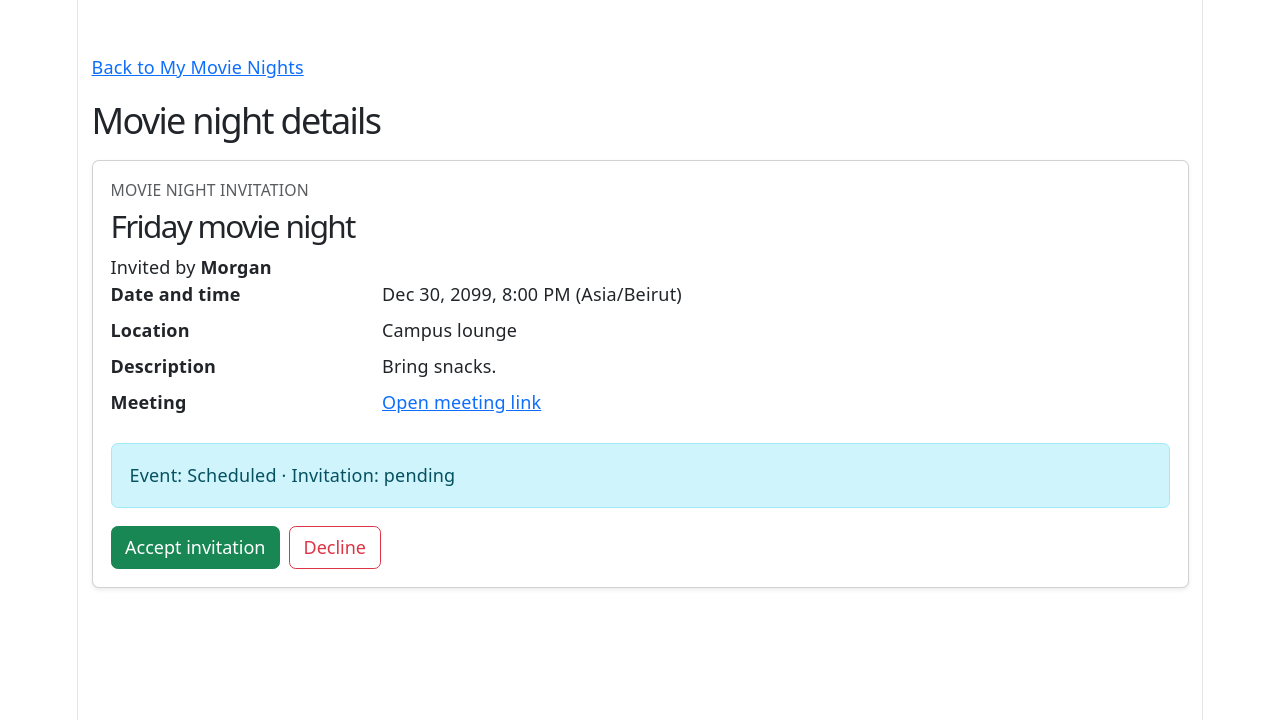
Test: loads full details after accepting an invitation
The width and height of the screenshot is (1280, 720).
Click the button "Accept invitation": [195, 547] box [110,526,280,569]
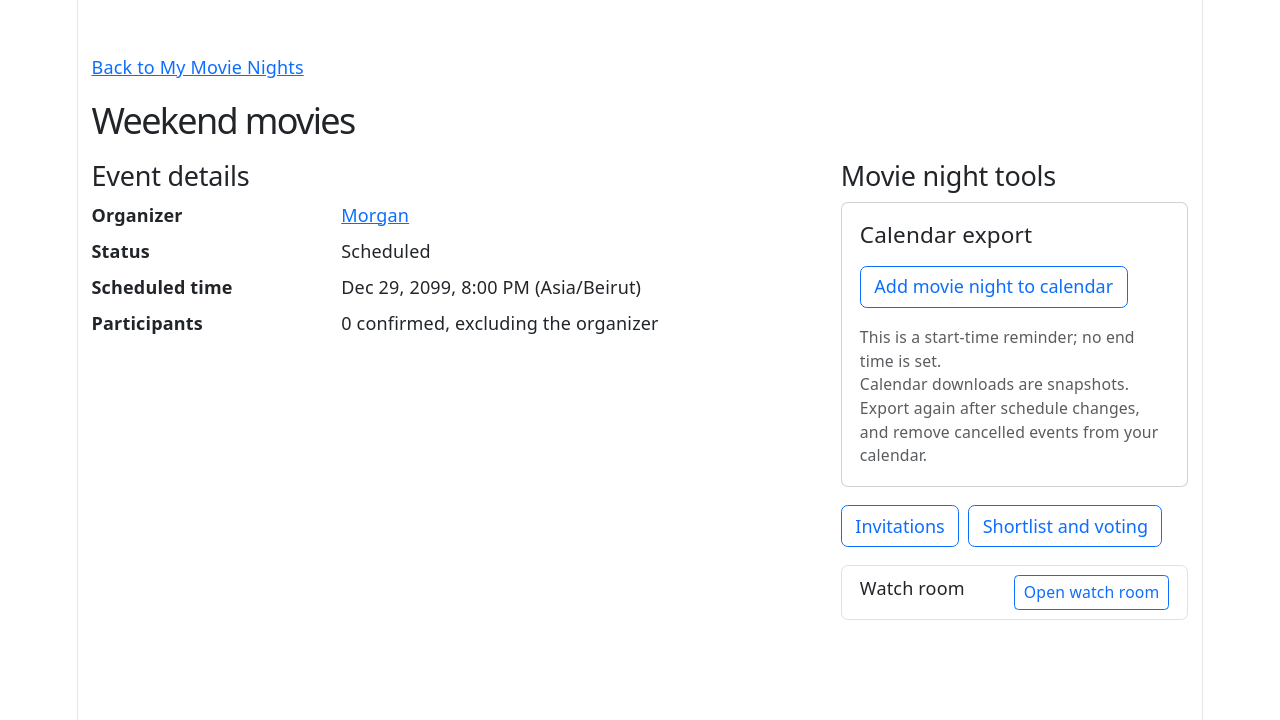
Check: the heading "Weekend movies" is shown, box [92,99,354,142]
Check: the text "Campus lounge" is gone
